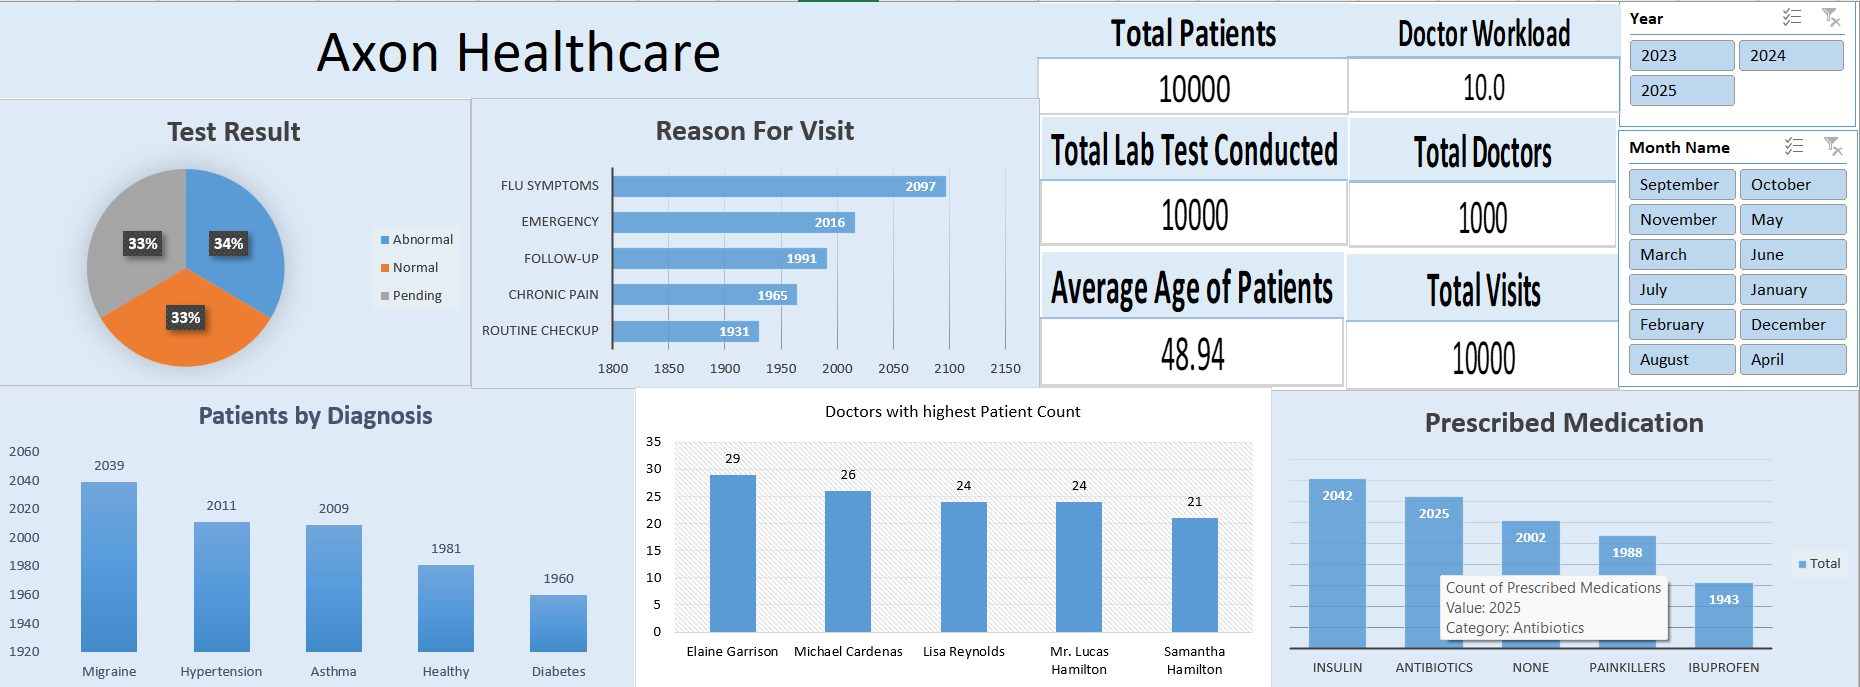

The dashboard page shown, as its layout file describes it:
{"tool":"powerbi","page":{"name":"Page 4","canvas":[1280,720],"ordinal":3},"visuals":[{"type":"textbox","box":[0,0,608.3,108.2],"z":0},{"type":"card","fields":{"Values":["CountNonNull(Doctor.Doctor_ID)"]},"box":[608.3,0,186.6,108.2],"z":1000},{"type":"card","fields":{"Values":["CountNonNull(Patient.Patient_ID)"]},"box":[1035,109.5,245.1,104.5],"z":2000},{"type":"card","fields":{"Values":["CountNonNull(Visit.Visit_ID)"]},"box":[947.9,0,165.4,109.5],"z":3000},{"type":"card","fields":{"Values":["CountNonNull(Lab_result.Lab_Result_ID)"]},"box":[799.9,108.2,235.1,105.7],"z":4000},{"type":"card","fields":{"Values":["Avg(Patient.Age)"]},"box":[794.9,0,153,108.2],"z":5000},{"type":"card","fields":{"Values":["Treatment.Total Revenue"]},"box":[1113.3,0,165.4,109.5],"z":6000},{"type":"pieChart","title":"Test Result","fields":{"Category":["Lab_result.Test_Result"],"Y":["CountNonNull(Patient.Patient_ID)"]},"box":[0,108.2,384.4,307.3],"z":7000},{"type":"barChart","title":"Reason for Visit","fields":{"Category":["Visit.Reason_for_Visit"],"Y":["CountNonNull(Patient.Patient_ID)"]},"box":[384.4,108.2,415.5,316],"z":8000},{"type":"clusteredColumnChart","title":"Patient by Diagnosis","fields":{"Category":["Visit.Diagnosis"],"Y":["CountNonNull(Patient.Patient_ID)"]},"box":[0,415.5,384.4,304.8],"z":9000},{"type":"lineClusteredColumnComboChart","title":"Specialty Doctors Consulted","fields":{"Category":["Doctor.Specialty"],"Y":["CountNonNull(Patient.Patient_ID)"]},"box":[384.4,415.5,415.5,304.8],"z":10000},{"type":"tableEx","title":"Top 5 Doctors with more Patient","fields":{"Values":["Doctor.Doctor_Name","Patient.Patient_ID"]},"box":[799.9,441.6,478.9,278.6],"z":11000},{"type":"advancedSlicerVisual","title":"Year","fields":{"Values":["Visit.year"]},"box":[799.9,214,136.8,227.6],"z":12000},{"type":"advancedSlicerVisual","fields":{"Values":["Visit.Month Name"]},"box":[936.7,214,343.3,227.6],"z":13000}]}

Visuals, with their boxes on the page's 1280x720 design canvas (x1, y1, x2, y2). These are canvas units, not pixel positions in the 1860x687 screenshot, which may show the page scaled, cropped or inside an application window:
textbox: region(0, 0, 608, 108)
card - CountNonNull(Doctor.Doctor_ID): region(608, 0, 795, 108)
card - CountNonNull(Patient.Patient_ID): region(1035, 110, 1280, 214)
card - CountNonNull(Visit.Visit_ID): region(948, 0, 1113, 110)
card - CountNonNull(Lab_result.Lab_Result_ID): region(800, 108, 1035, 214)
card - Avg(Patient.Age): region(795, 0, 948, 108)
card - Treatment.Total Revenue: region(1113, 0, 1279, 110)
"Test Result" pieChart: region(0, 108, 384, 416)
"Reason for Visit" barChart: region(384, 108, 800, 424)
"Patient by Diagnosis" clusteredColumnChart: region(0, 416, 384, 720)
"Specialty Doctors Consulted" lineClusteredColumnComboChart: region(384, 416, 800, 720)
"Top 5 Doctors with more Patient" tableEx: region(800, 442, 1279, 720)
"Year" advancedSlicerVisual: region(800, 214, 937, 442)
advancedSlicerVisual - Visit.Month Name: region(937, 214, 1280, 442)
